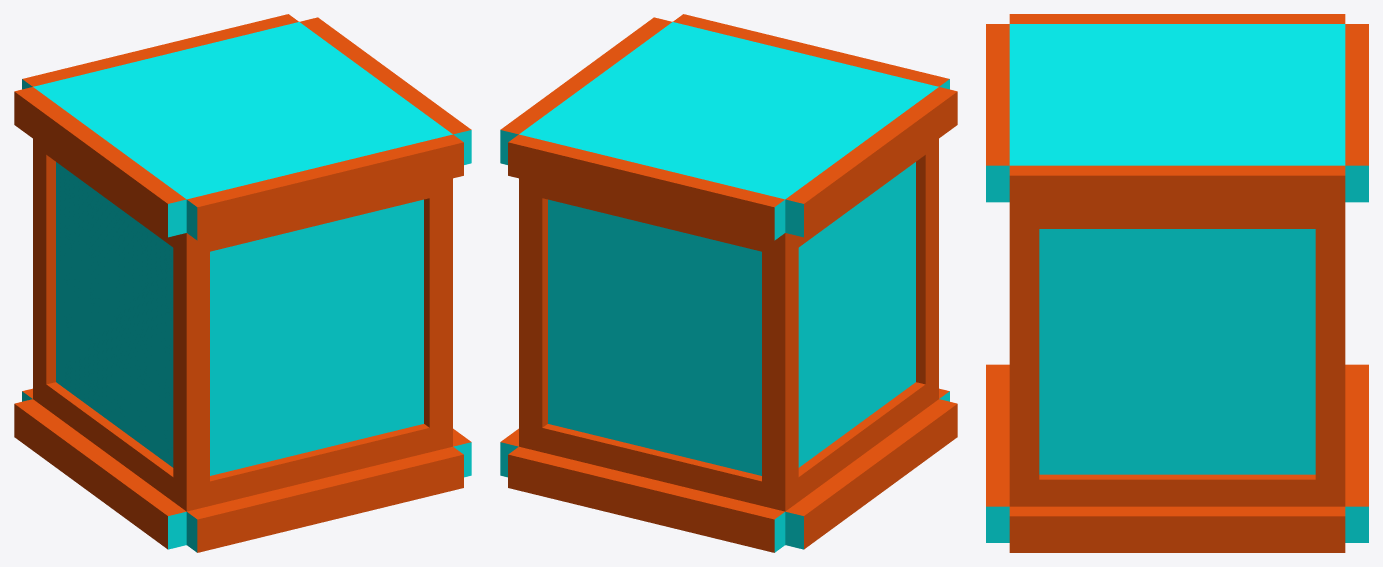
The model's file is SDG_WaterCrateFixed.fbx.
The picture shows the model from 3 angles, left to right: view 1: azimuth 30°, elevation 25°; view 2: azimuth 150°, elevation 25°; view 3: azimuth 270°, elevation 25°; orthographic projection. The views are drawn at different scales.
Visible parts, largest first — view 1: WaterCrate001; view 2: WaterCrate001; view 3: WaterCrate001.
Part boxes in pixels (x1=…): WaterCrate001: x1=14, y1=14, x2=471, y2=552; WaterCrate001: x1=500, y1=14, x2=957, y2=552; WaterCrate001: x1=986, y1=14, x2=1368, y2=552.
Size of the model in its own units: 2.09 by 2.28 by 2.09.
